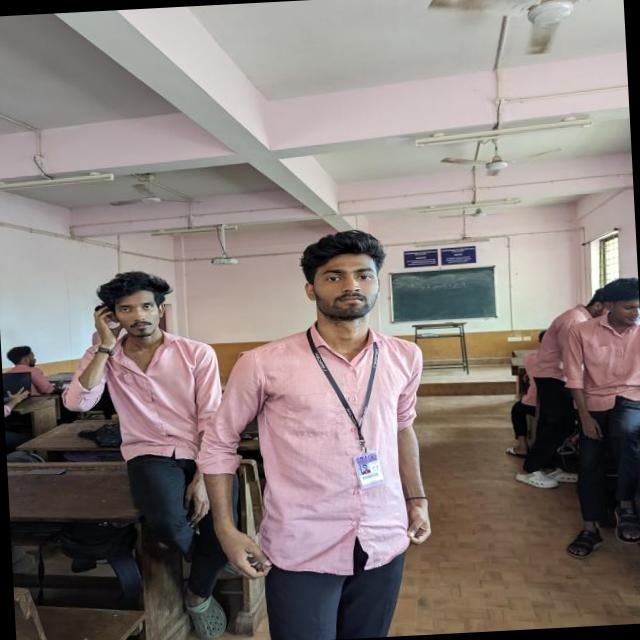id_card: (309, 326, 396, 488)
